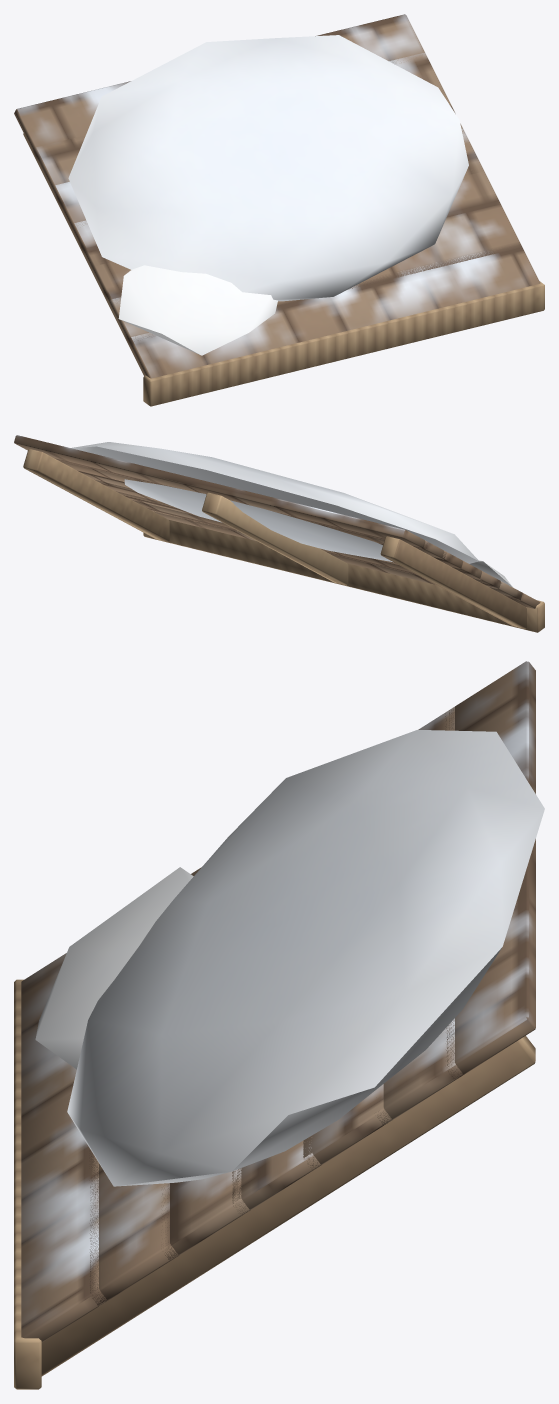
The model's file is cottage_roof_module.gltf.
The picture shows the model from 3 angles, top to bottom: view 1: azimuth 30°, elevation 25°; view 2: azimuth 150°, elevation 25°; view 3: azimuth 270°, elevation 25°; orthographic projection. The views are drawn at different scales.
Parts seen in each view (by area): view 1: cottage_roof_module; view 2: cottage_roof_module; view 3: cottage_roof_module.
Part boxes in pixels (x1,y1,x2,y2): cottage_roof_module: (14, 14, 544, 406); cottage_roof_module: (14, 435, 544, 632); cottage_roof_module: (14, 661, 544, 1389).
Size of the model in its own units: 3.1 by 1.6 by 1.92.
1 material, 1 textured.
